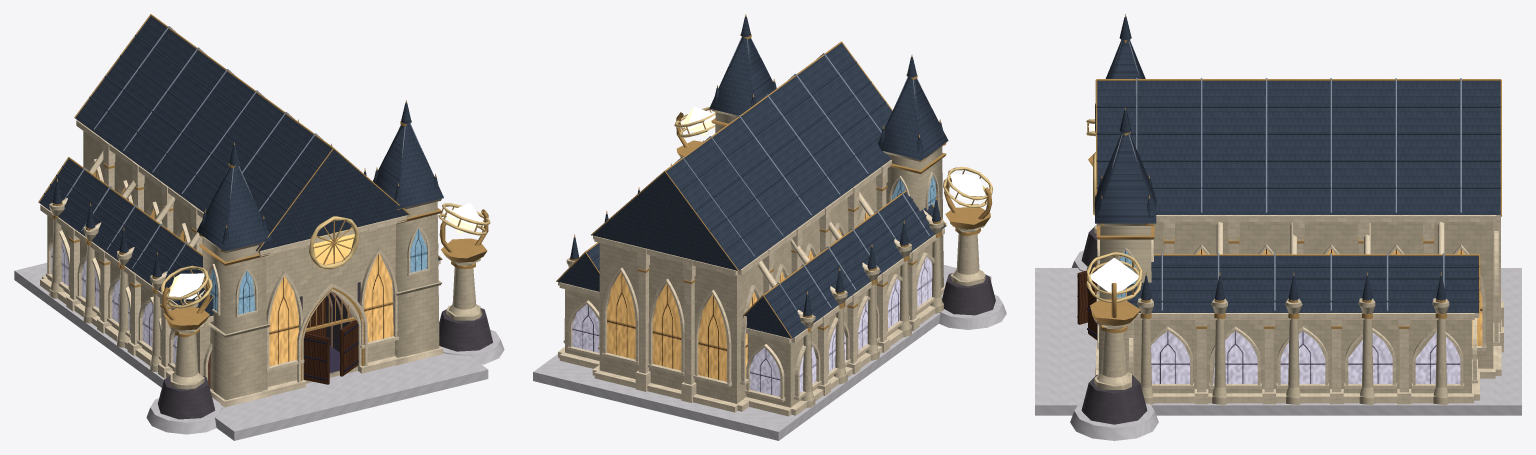
File: illumination-hall-far.glb
3 renders of one model, left to right at view 1: azimuth 30°, elevation 25°; view 2: azimuth 150°, elevation 25°; view 3: azimuth 270°, elevation 25°, orthographic. The views are drawn at different scales.
Size of the model in its own units: 21.8 by 15.52 by 23.9.
Materials: 18 (18 with a texture image).
